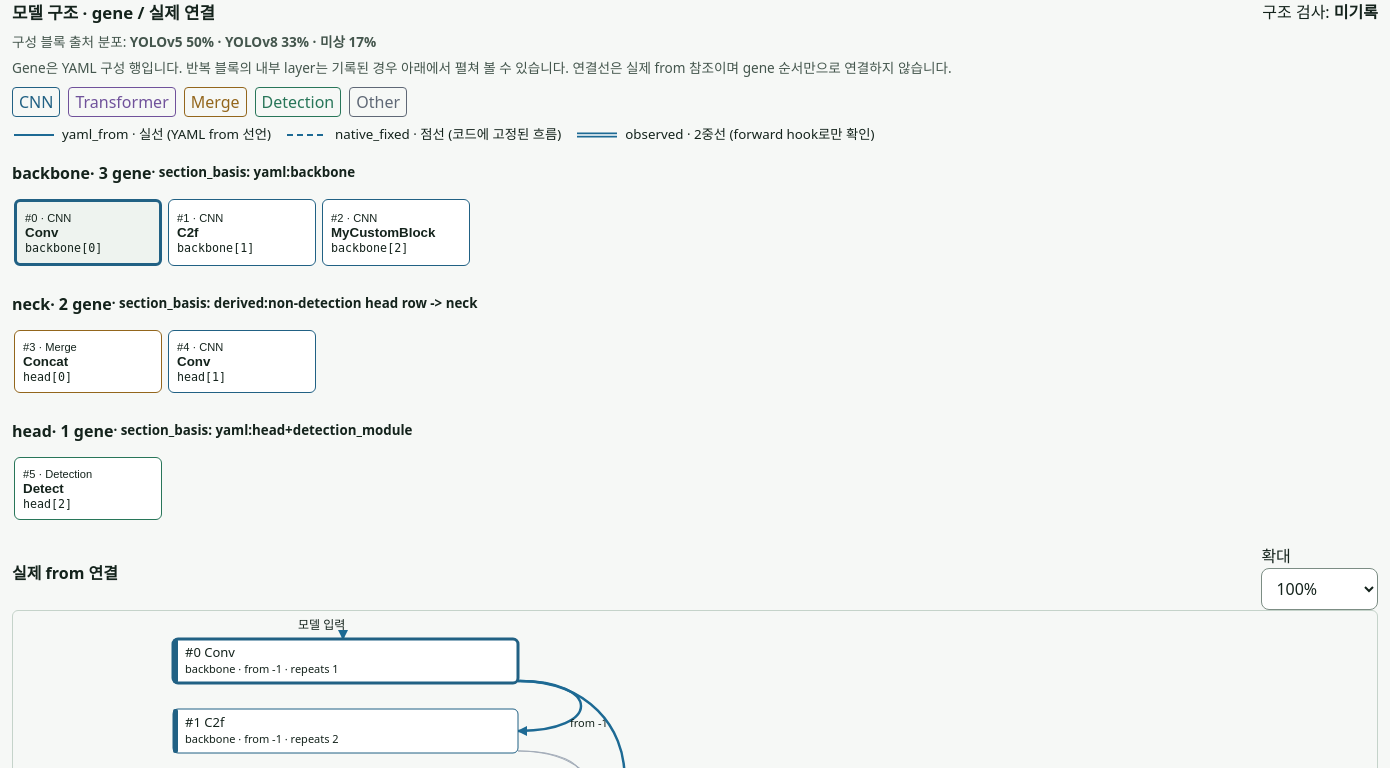
Scenario: ModelStructure: distribution line and block rows › null fields read 출처 미상 and the block is still selectable
Check: the element with test id "model-origin-distribution" shows "미상 17%", box [130,32,376,51]
Click the button with aria-label "block-0002 / backbone[2]" at (396, 232), box [322,199,470,266]
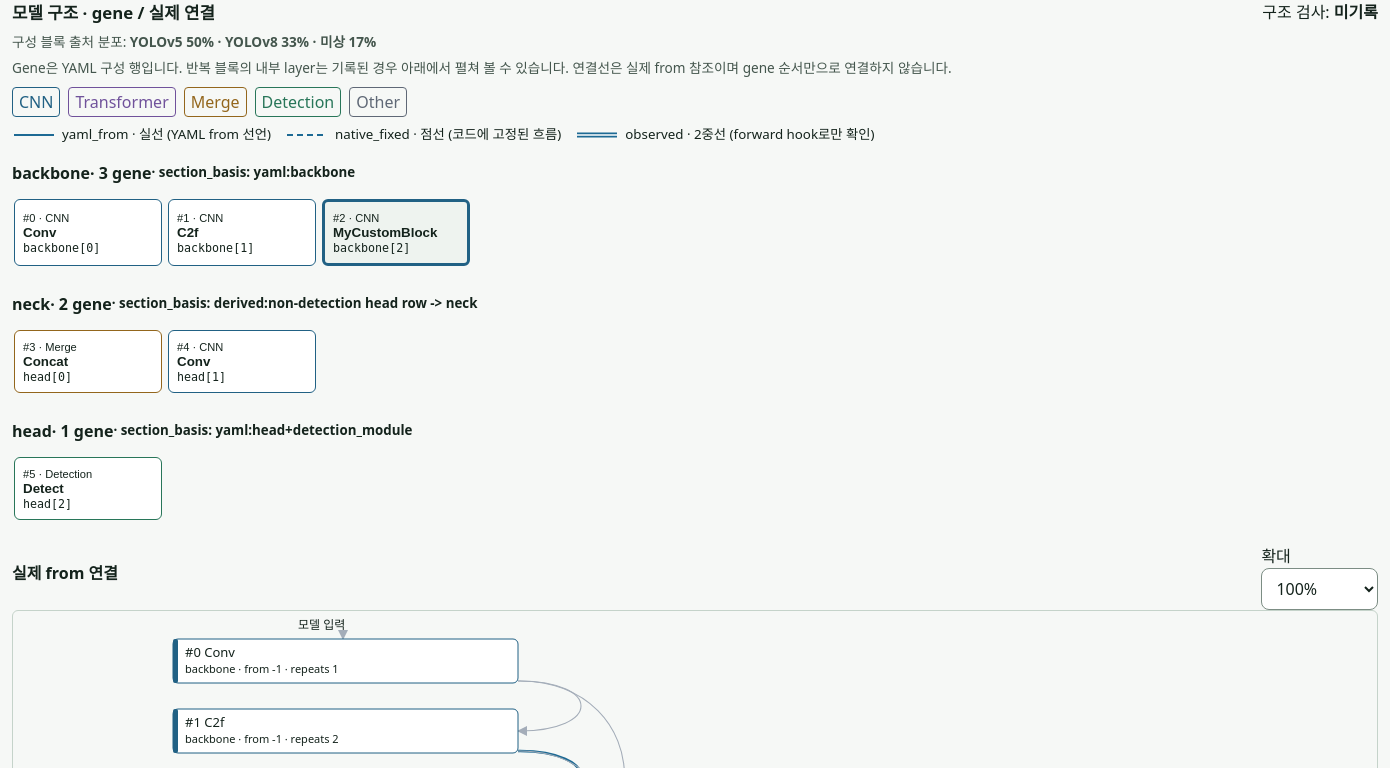
a declared-only document never carries a resolved source path
Click the button with test id "gene-0" at (88, 232), box [14,199,162,266]
(page scrolled)
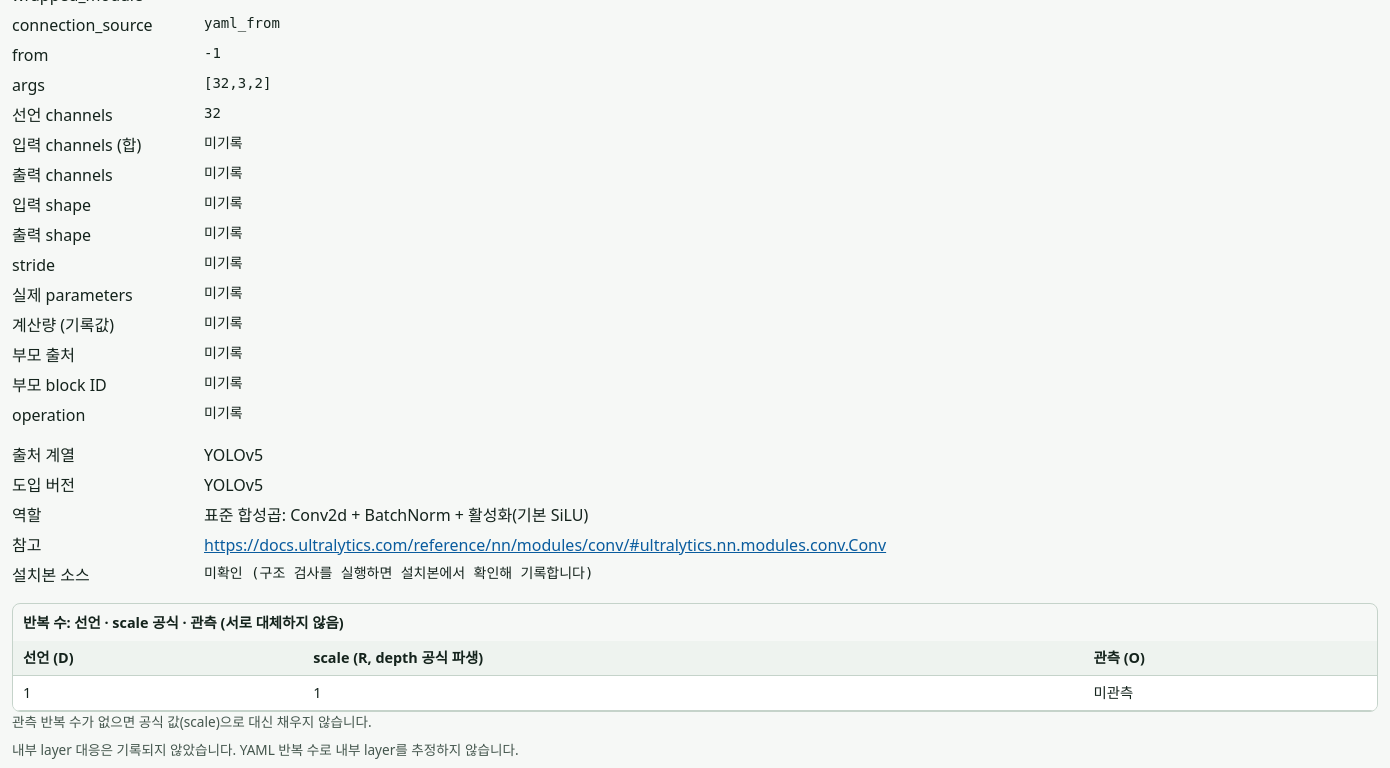
Check: the text with test id "origin-source" shows "미확인", box [204,565,593,581]
Check: the text with test id "origin-family" reads "YOLOv5", box [204,444,263,466]
